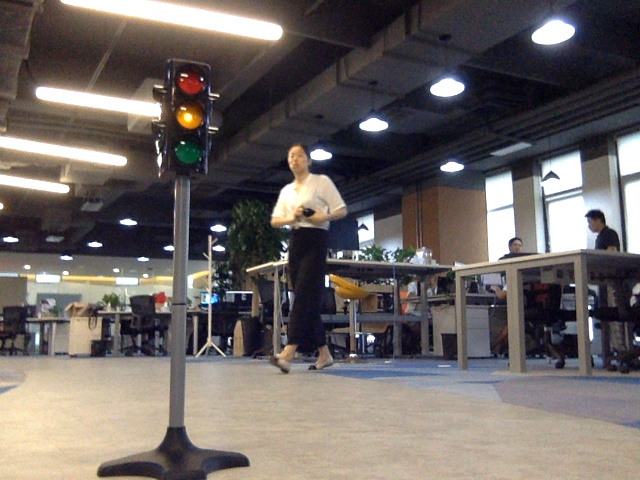yellow: (172, 68, 207, 166)
